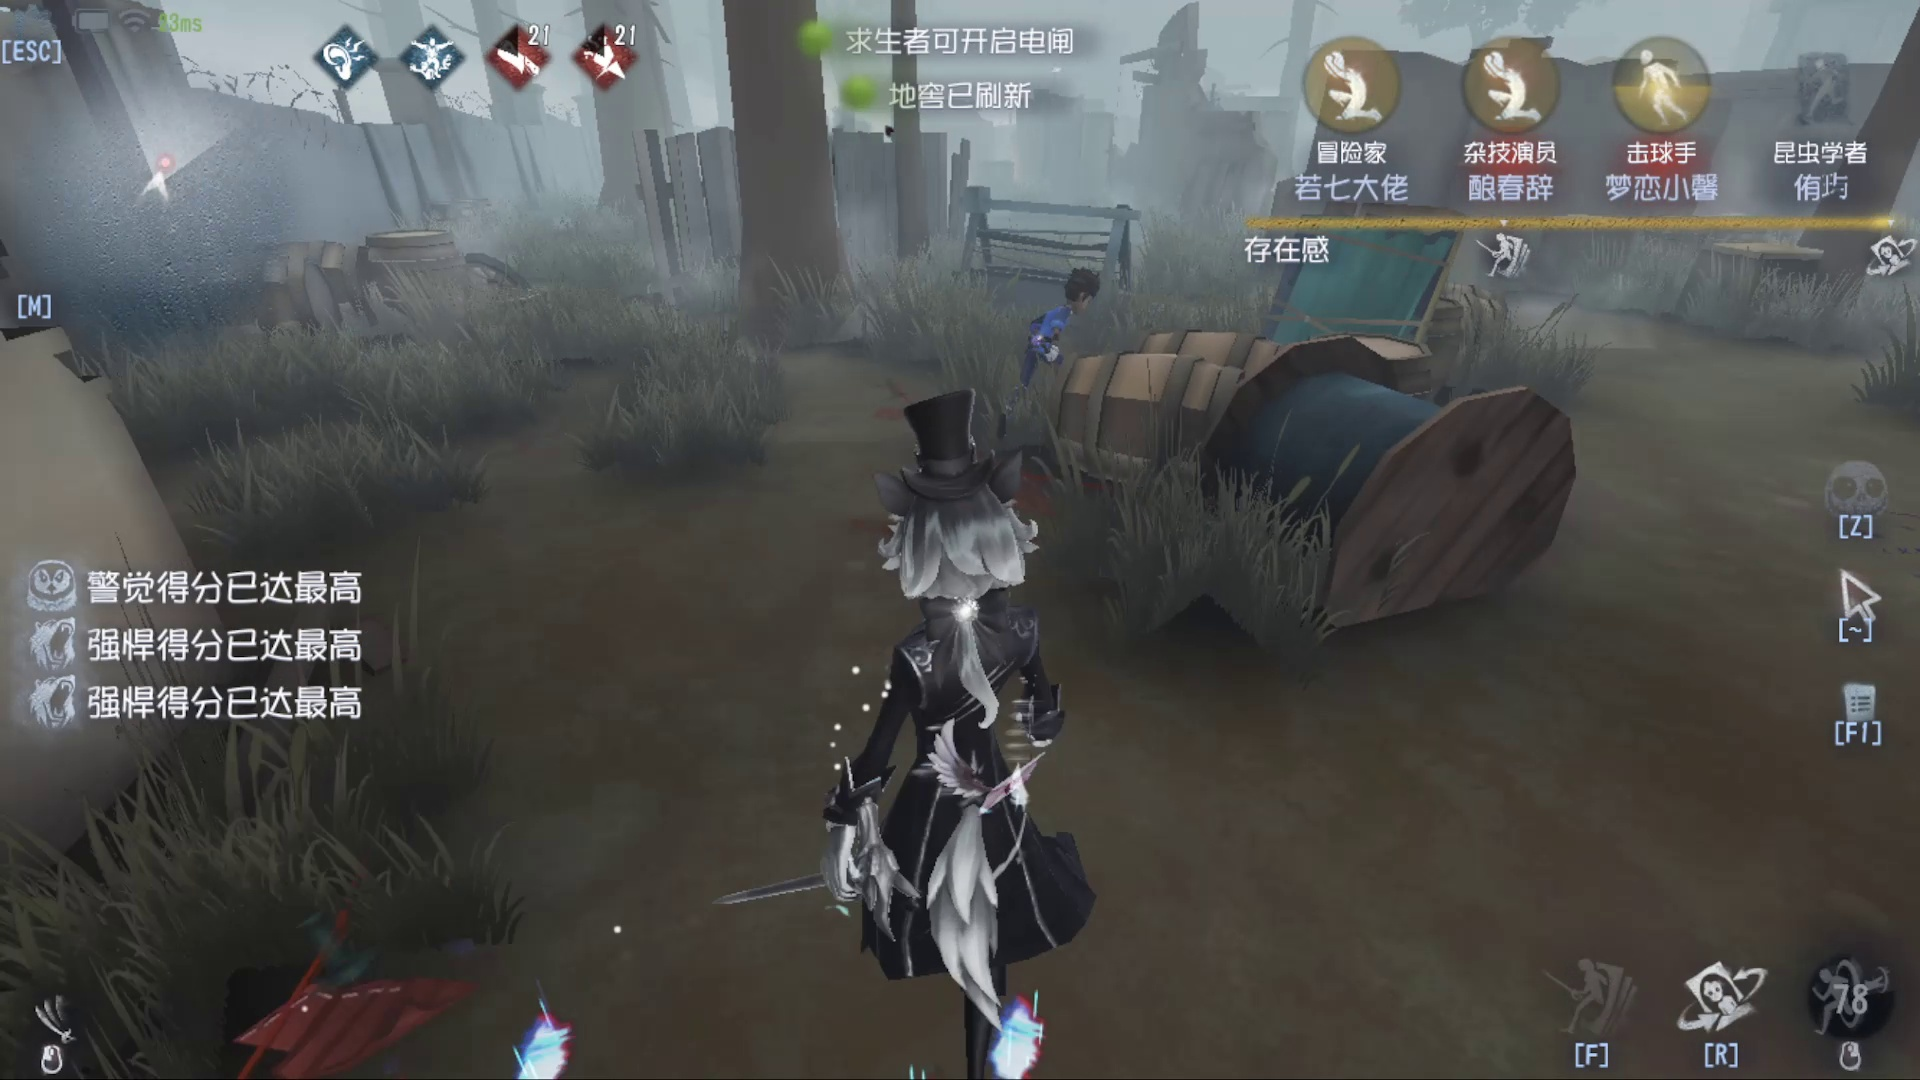木板: (1259, 187, 1439, 392)
求生者: (992, 272, 1085, 397)
